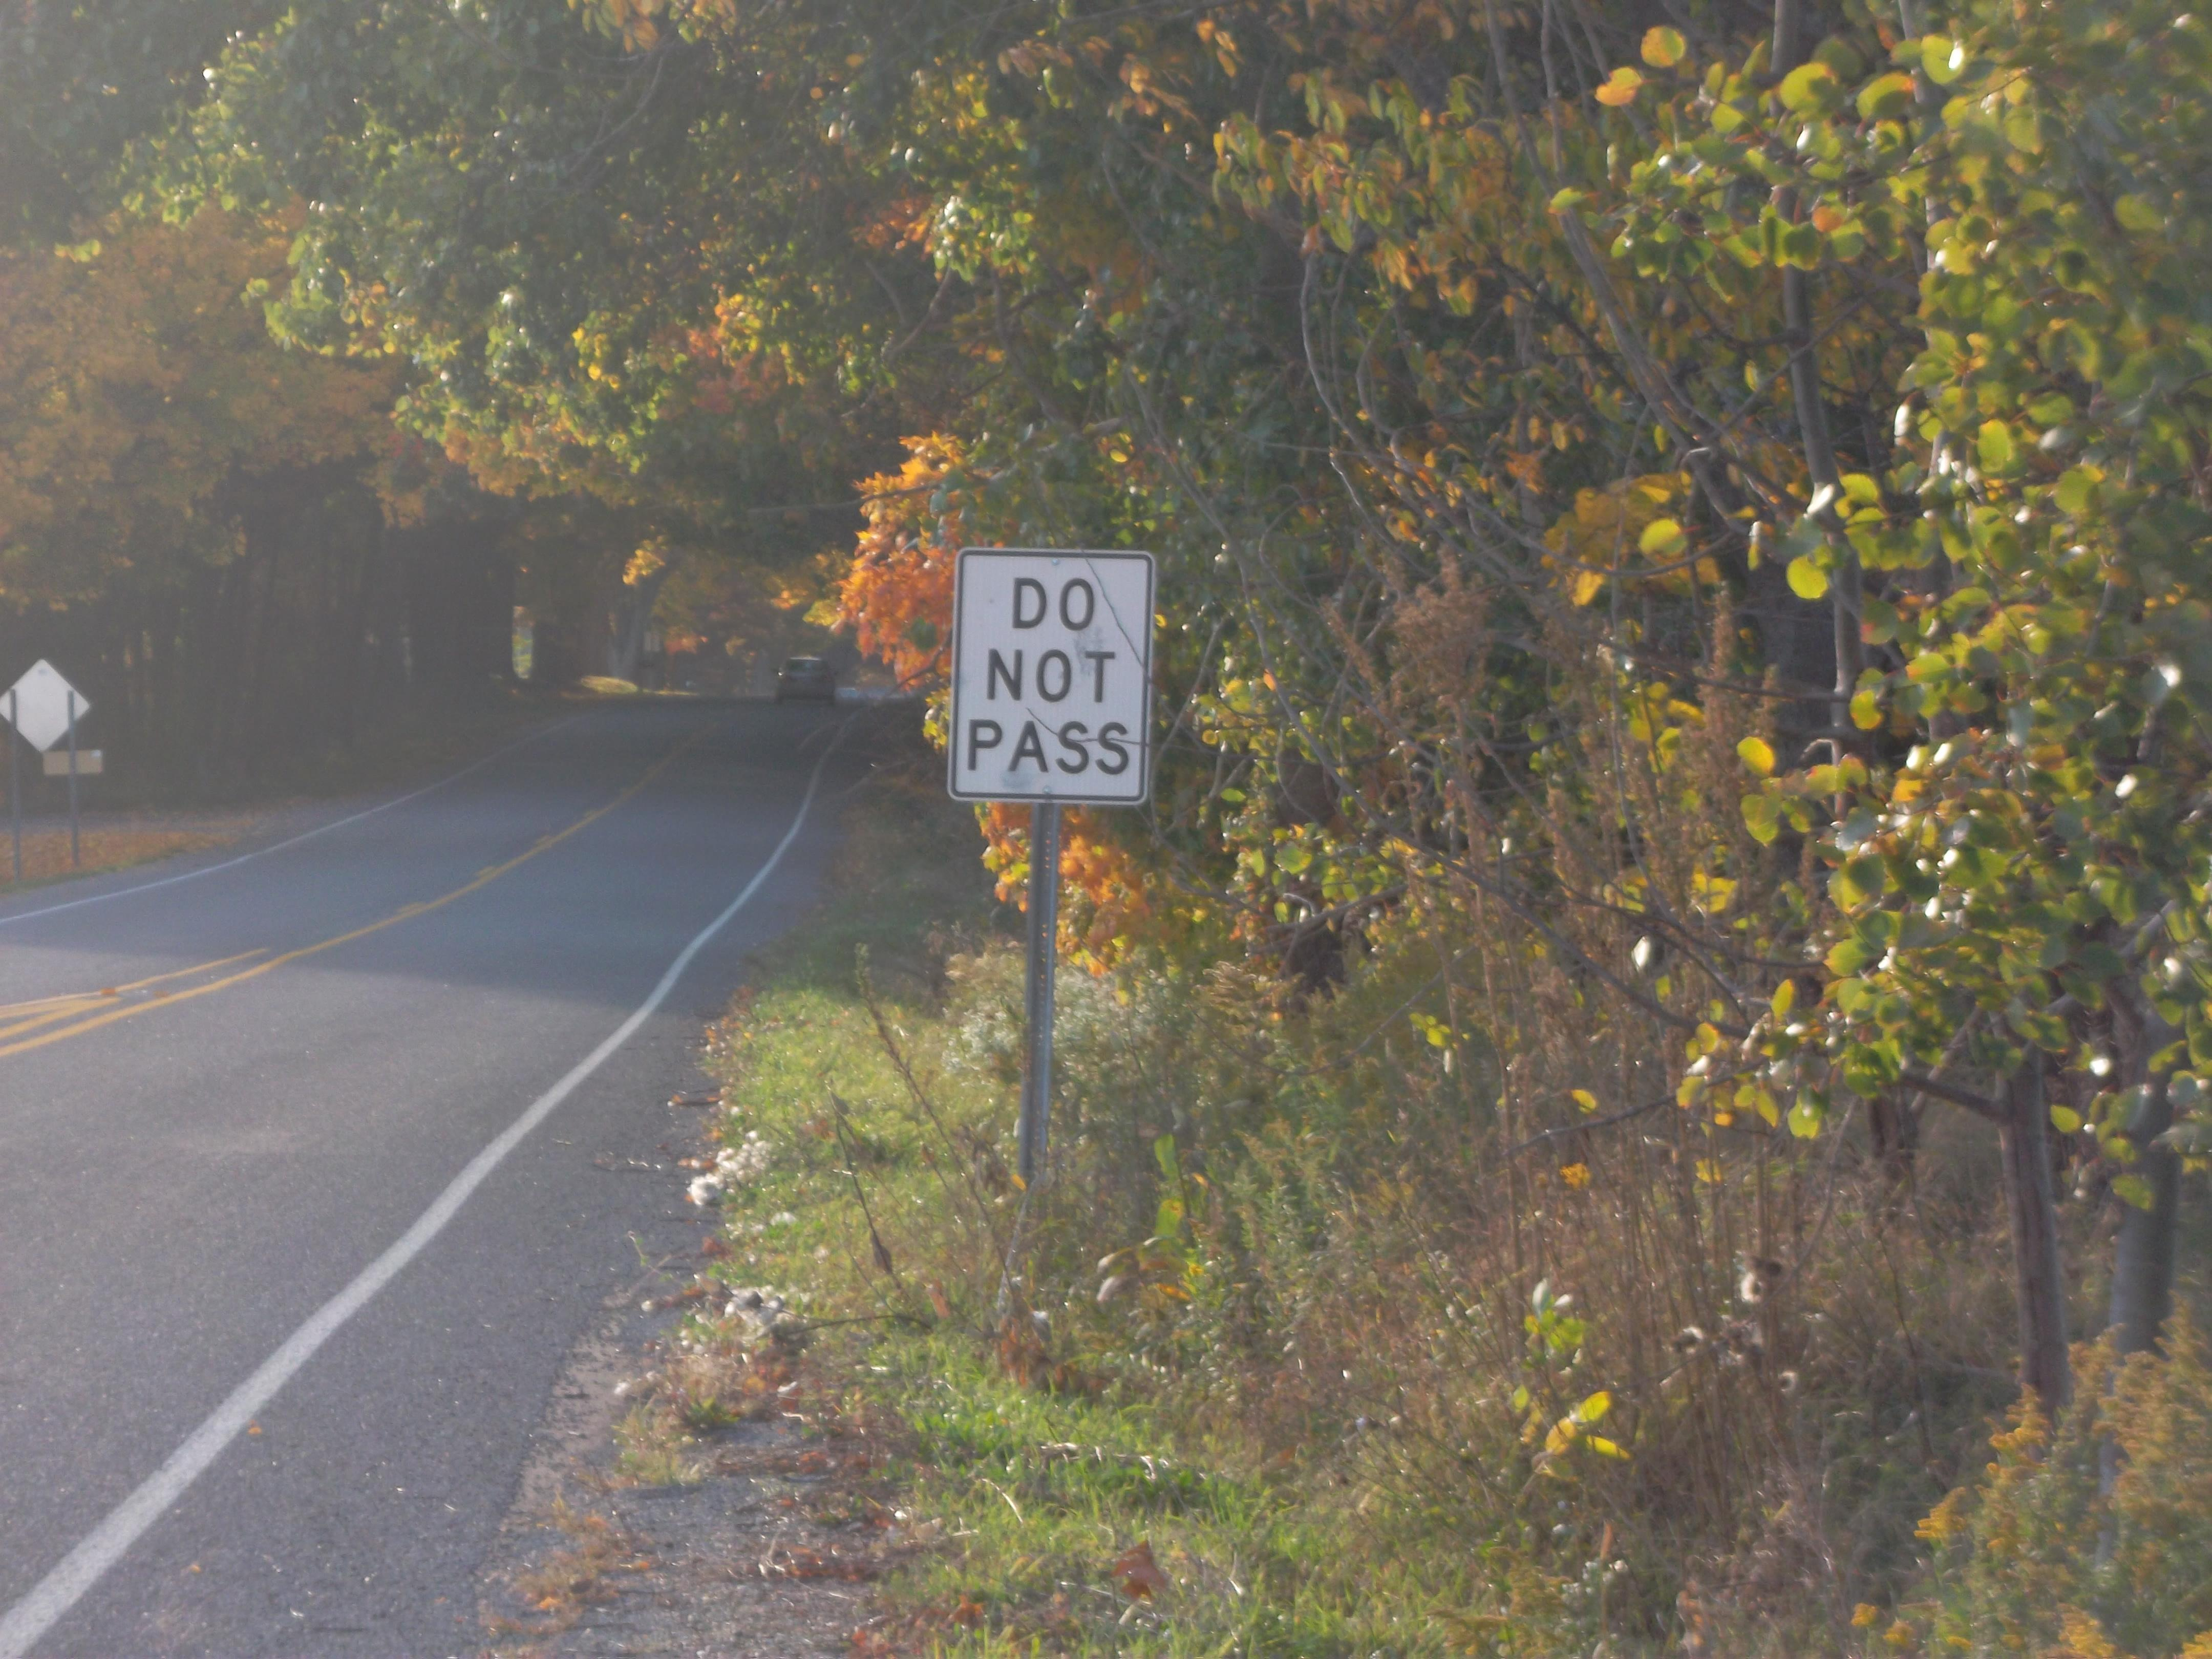regulatory: (946, 540, 1158, 810)
